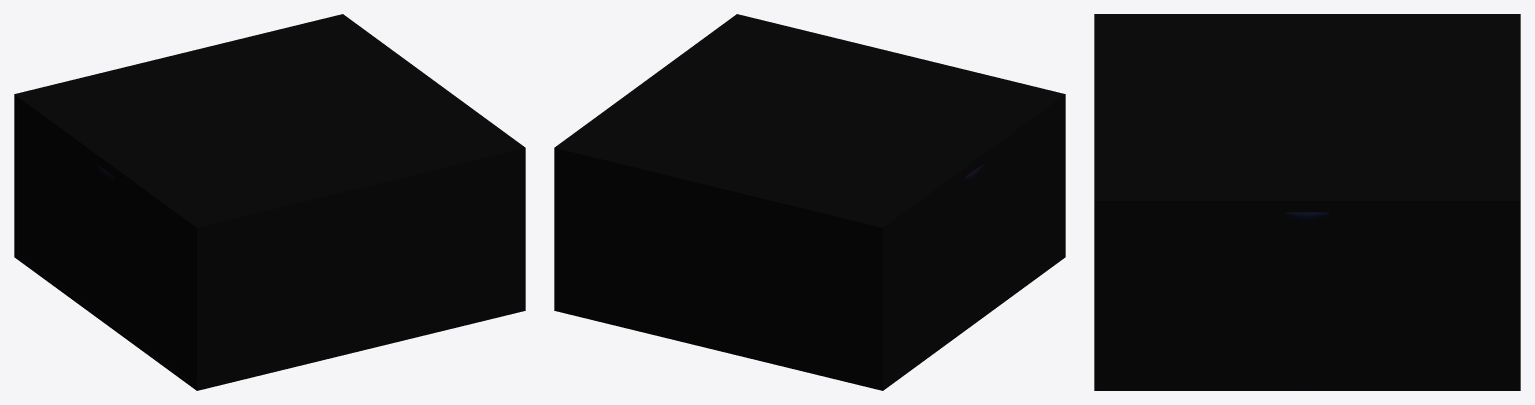
The picture shows the model from 3 angles, left to right: view 1: azimuth 30°, elevation 25°; view 2: azimuth 150°, elevation 25°; view 3: azimuth 270°, elevation 25°; orthographic projection. The views are drawn at different scales.
Visible parts, largest first — view 1: NeonArcade / baked game mesh; view 2: NeonArcade / baked game mesh; view 3: NeonArcade / baked game mesh.
Part boxes in pixels (x1,y1,x2,y2): NeonArcade / baked game mesh: [14, 14, 525, 390]; NeonArcade / baked game mesh: [554, 14, 1065, 390]; NeonArcade / baked game mesh: [1094, 14, 1520, 390].
Size of the model in its own units: 6.5 by 3.08 by 6.26.
1 material, 1 textured.
